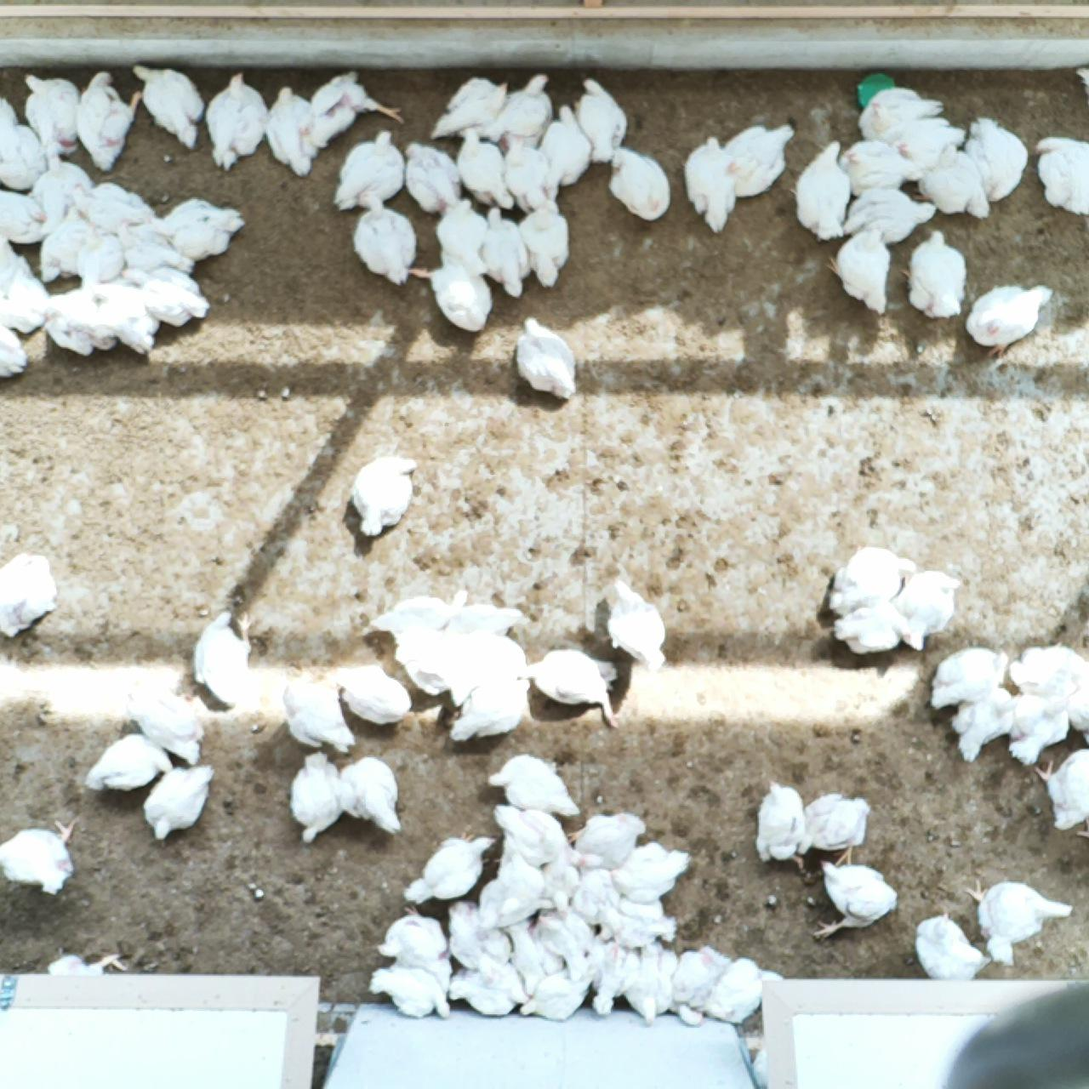chicken: (964, 875, 1076, 968), (399, 628, 529, 708), (516, 644, 623, 729), (372, 605, 465, 697), (72, 65, 148, 177), (717, 120, 803, 215), (396, 583, 526, 645), (123, 678, 212, 767), (311, 69, 405, 153), (808, 855, 899, 941), (824, 541, 921, 621), (129, 61, 211, 155), (203, 69, 274, 172), (349, 181, 418, 286), (190, 604, 257, 710), (81, 273, 165, 357), (401, 832, 499, 904), (346, 449, 421, 543), (965, 280, 1054, 359), (146, 192, 246, 262), (599, 575, 670, 673), (330, 126, 409, 214), (483, 752, 582, 821), (116, 261, 216, 329), (827, 221, 897, 318), (793, 137, 854, 248), (428, 240, 499, 335), (491, 801, 587, 871), (910, 907, 994, 986), (959, 115, 1033, 203), (511, 313, 583, 403), (39, 282, 121, 361), (280, 673, 358, 756), (141, 760, 218, 844), (683, 133, 745, 237), (874, 114, 966, 184), (699, 954, 788, 1026), (481, 71, 557, 155), (0, 815, 81, 893), (948, 684, 1024, 767), (474, 201, 537, 301), (900, 230, 969, 321), (1006, 686, 1077, 774), (263, 84, 329, 178), (447, 898, 515, 989), (492, 129, 562, 217), (20, 71, 86, 164), (82, 732, 175, 798), (399, 133, 469, 220), (795, 789, 873, 867), (110, 217, 202, 283), (751, 778, 817, 870), (890, 568, 964, 650), (425, 75, 514, 143), (0, 545, 63, 641), (838, 186, 937, 247), (336, 753, 407, 838), (446, 672, 532, 742), (929, 642, 1016, 711), (837, 135, 929, 200), (365, 957, 454, 1024), (286, 748, 346, 847), (666, 940, 733, 1028), (607, 143, 678, 226), (567, 810, 653, 878), (449, 123, 514, 212), (329, 661, 414, 729), (916, 145, 993, 220), (855, 83, 947, 144), (572, 74, 632, 166), (376, 903, 453, 974), (67, 173, 155, 235), (516, 196, 573, 291), (1029, 129, 1089, 219), (618, 942, 680, 1028), (611, 838, 693, 903), (0, 89, 50, 194), (1030, 744, 1089, 832), (37, 203, 98, 288), (828, 599, 911, 661), (593, 889, 678, 949), (29, 158, 96, 234), (1006, 640, 1089, 701), (531, 903, 598, 977), (539, 103, 598, 187), (586, 938, 642, 1024), (520, 964, 598, 1024), (506, 919, 565, 998), (445, 963, 525, 1019), (435, 193, 488, 276), (477, 874, 554, 931), (495, 850, 550, 923), (569, 858, 624, 930), (0, 187, 67, 245), (74, 221, 127, 289), (536, 847, 587, 907), (0, 268, 49, 330), (0, 236, 45, 299), (46, 947, 129, 977), (0, 324, 31, 377), (1064, 676, 1089, 741)
